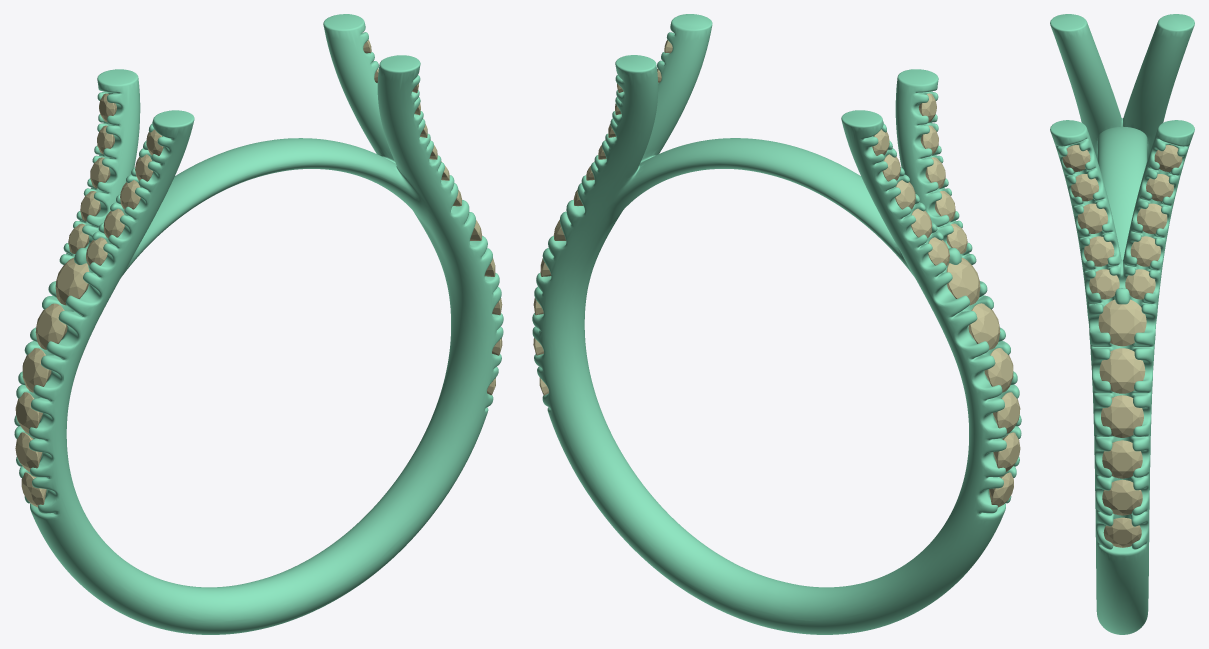
The picture shows the model from 3 angles, left to right: view 1: azimuth 30°, elevation 25°; view 2: azimuth 150°, elevation 25°; view 3: azimuth 270°, elevation 25°; orthographic projection. The views are drawn at different scales.
Parts seen in each view (by area): view 1: Metal02, Diamond_Gem.010, Diamond_Gem.011, Diamond_Gem.012, Diamond_Gem.013; view 2: Metal02, Diamond_Gem.010, Diamond_Gem.011, Diamond_Gem.012, Diamond_Gem.013; view 3: Metal02, Diamond_Gem.021, Diamond_Gem.020, Diamond_Gem.019, Diamond_Gem.018, Diamond_Gem.017, Diamond_Gem.016, Diamond_Gem.022, Diamond_Gem.027, Diamond_Gem.023, Diamond_Gem.024, Diamond_Gem.026 (+5 smaller).
Part boxes in pixels (x1,y1,x2,y2): Metal02: (14,14,503,634); Diamond_Gem.010: (55,258,89,305); Diamond_Gem.011: (35,303,67,349); Diamond_Gem.012: (22,348,51,392); Diamond_Gem.013: (15,392,42,433); Metal02: (532,14,1021,634); Diamond_Gem.010: (946,258,980,305); Diamond_Gem.011: (968,303,1000,349); Diamond_Gem.012: (984,348,1013,392); Diamond_Gem.013: (993,392,1020,433); Metal02: (1050,14,1194,634); Diamond_Gem.021: (1098,299,1146,346); Diamond_Gem.020: (1099,348,1145,393); Diamond_Gem.019: (1101,395,1143,437); Diamond_Gem.018: (1102,440,1142,478); Diamond_Gem.017: (1102,479,1142,515); Diamond_Gem.016: (1103,517,1141,547); Diamond_Gem.022: (1125,269,1155,299); Diamond_Gem.027: (1089,269,1119,299); Diamond_Gem.023: (1130,236,1160,266); Diamond_Gem.024: (1137,203,1167,233); Diamond_Gem.026: (1084,236,1114,266).
Bounding box in the file's own units: 20.93 × 23.34 × 5.72.
